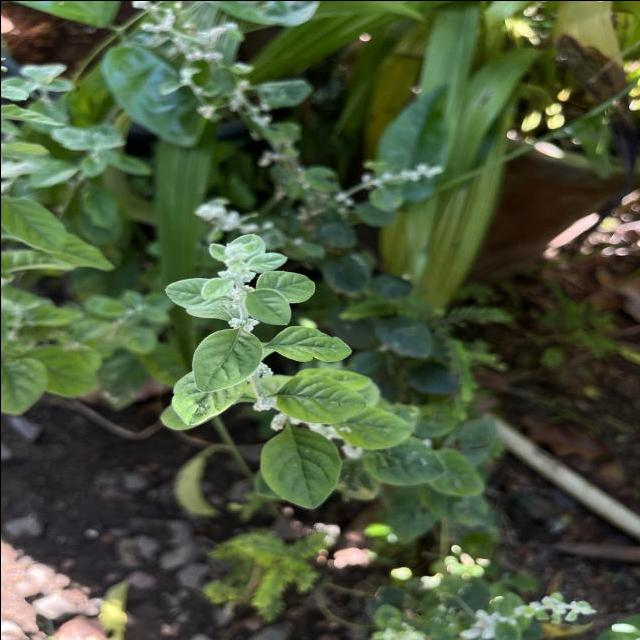Aerva lanata: (188, 326, 264, 394), (266, 323, 353, 362), (252, 268, 316, 304)
